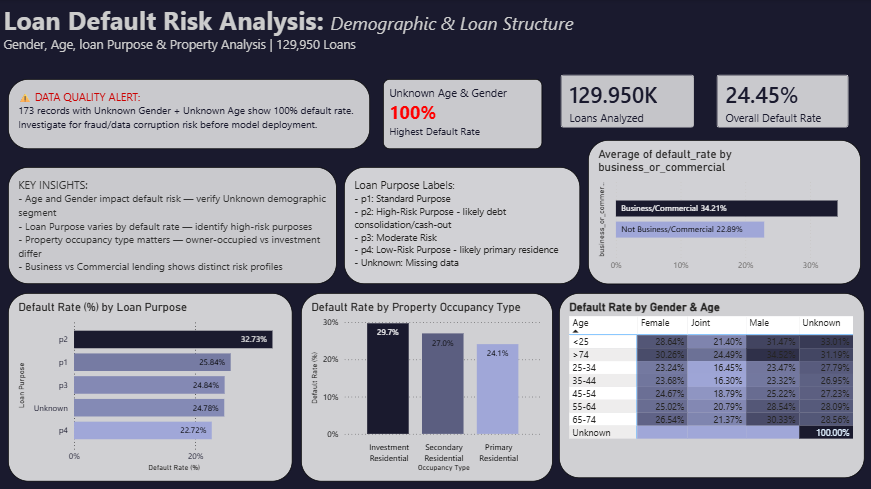

Layout of this report page (visuals, bound fields, positions):
{"tool":"powerbi","page":{"name":"Part-2","canvas":[1280,720],"ordinal":1},"visuals":[{"type":"pivotTable","title":"Default Rate by Gender & Age","fields":{"Values":["Avg(Analysis2_Gender_Age_DefaultRate (2).default_rate)"],"Rows":["Analysis2_Gender_Age_DefaultRate (2).age"],"Columns":["Analysis2_Gender_Age_DefaultRate (2).Gender"]},"box":[821.4,431.7,448.5,272.1],"z":0},{"type":"clusteredBarChart","fields":{"Category":["Analysis2_LoanPurpose_DefaultRate (2).loan_purpose"],"Y":["Avg(Analysis2_LoanPurpose_DefaultRate (2).default_rate)"]},"box":[11.8,431.7,418,277.2],"z":1000},{"type":"clusteredColumnChart","title":"Default Rate by Property Occupancy Type","fields":{"Category":["Analysis2_OccupanceyType_DefaultRate.occupancy_type"],"Y":["Avg(Analysis2_OccupanceyType_DefaultRate.default_rate)"]},"box":[441.8,431.7,370,277],"z":2000},{"type":"textbox","box":[0,0,897.8,89.6],"z":3000},{"type":"textbox","box":[11.8,117.6,531.9,102.9],"z":4000},{"type":"cardVisual","fields":{"Data":["Sum(Analysis_Income_DefaultRate.total)"]},"box":[806.3,94.1,230.1,112.5],"z":5000},{"type":"cardVisual","fields":{"Data":["Avg(Analysis_Income_DefaultRate.default_rate)"]},"box":[1036.4,94.1,228.5,112.5],"z":6000},{"type":"textbox","box":[11.8,246.9,483.4,171.9],"z":7000},{"type":"textbox","box":[505.5,246.9,346.8,171.9],"z":8000},{"type":"clusteredBarChart","fields":{"Y":["Avg(Analysis2_BusinessCommercial_DefaultRate.default_rate)"],"Category":["Analysis2_BusinessCommercial_DefaultRate.business_or_commercial"]},"box":[864,207.2,401.1,211.6],"z":9000},{"type":"textbox","box":[562.8,117.6,233.6,102.9],"z":10000}]}

Visuals, with their boxes in screenshot pixels (x1, y1, x2, y2), scaled from the page's 1280x720 canvas onto the 871x489 screenshot:
"Default Rate by Gender & Age" pivotTable: <region>559, 293, 864, 478</region>
clusteredBarChart - Analysis2_LoanPurpose_DefaultRate (2).loan_purpose x Avg(Analysis2_LoanPurpose_DefaultRate (2).default_rate): <region>8, 293, 292, 481</region>
"Default Rate by Property Occupancy Type" clusteredColumnChart: <region>301, 293, 552, 481</region>
textbox: <region>0, 0, 611, 61</region>
textbox: <region>8, 80, 370, 150</region>
cardVisual - Sum(Analysis_Income_DefaultRate.total): <region>549, 64, 705, 140</region>
cardVisual - Avg(Analysis_Income_DefaultRate.default_rate): <region>705, 64, 861, 140</region>
textbox: <region>8, 168, 337, 284</region>
textbox: <region>344, 168, 580, 284</region>
clusteredBarChart - Avg(Analysis2_BusinessCommercial_DefaultRate.default_rate) x Analysis2_BusinessCommercial_DefaultRate.business_or_commercial: <region>588, 141, 861, 284</region>
textbox: <region>383, 80, 542, 150</region>
